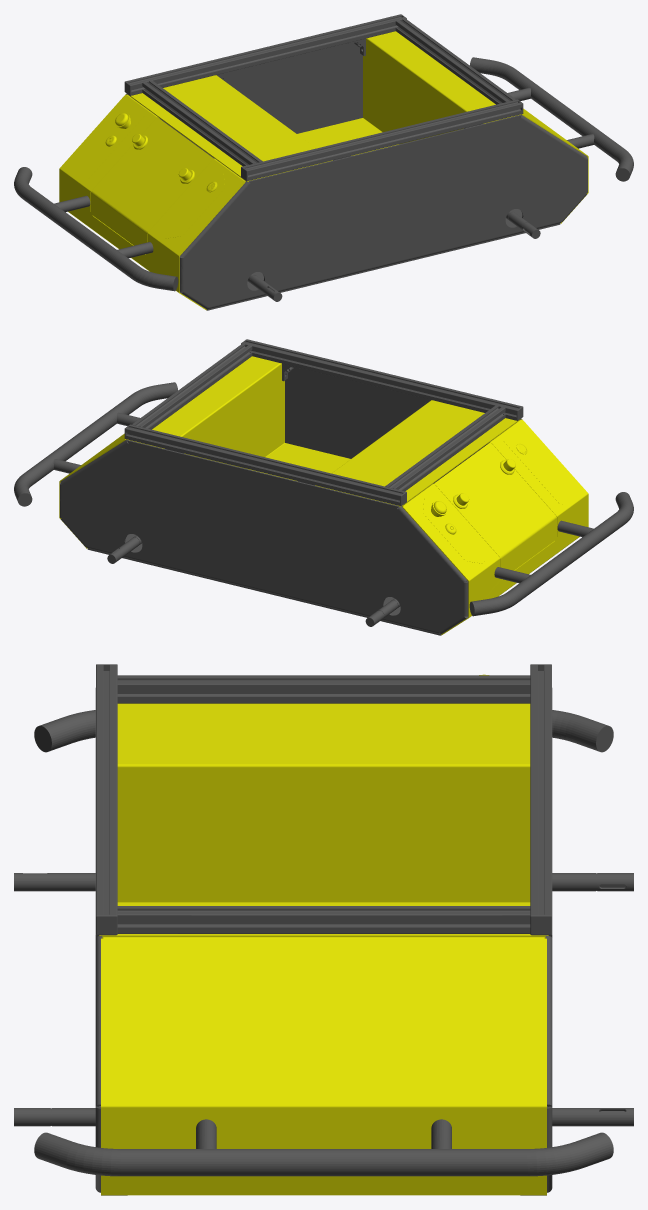
File: chasis.dae
The picture shows the model from 3 angles, top to bottom: view 1: azimuth 30°, elevation 25°; view 2: azimuth 150°, elevation 25°; view 3: azimuth 270°, elevation 25°; orthographic projection. The views are drawn at different scales.
Visible parts, largest first — view 1: Base_Link; view 2: Base_Link; view 3: Base_Link.
Part boxes in pixels (x1,y1,x2,y2): Base_Link: [14, 14, 633, 310]; Base_Link: [14, 339, 633, 635]; Base_Link: [14, 664, 633, 1195].
Size of the model in its own units: 0.9854 by 0.5709 by 0.2492.
